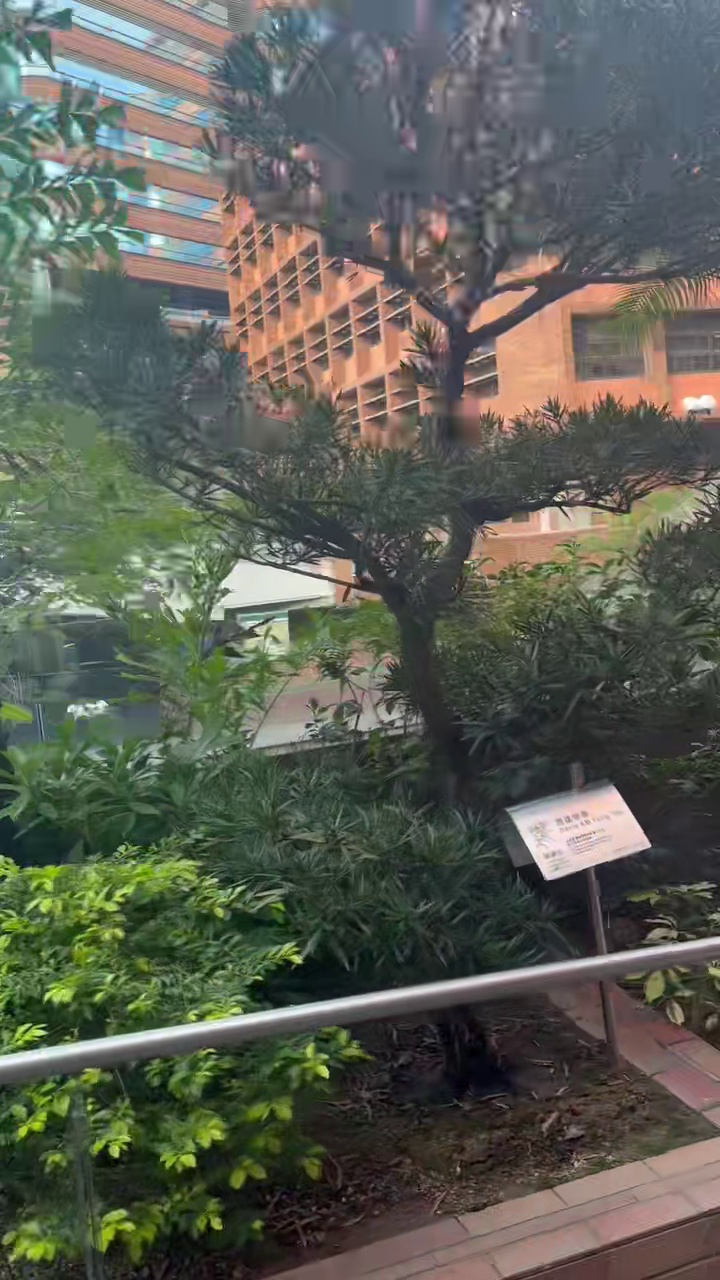Podocarpus macrophyllus: (118, 0, 719, 776)
